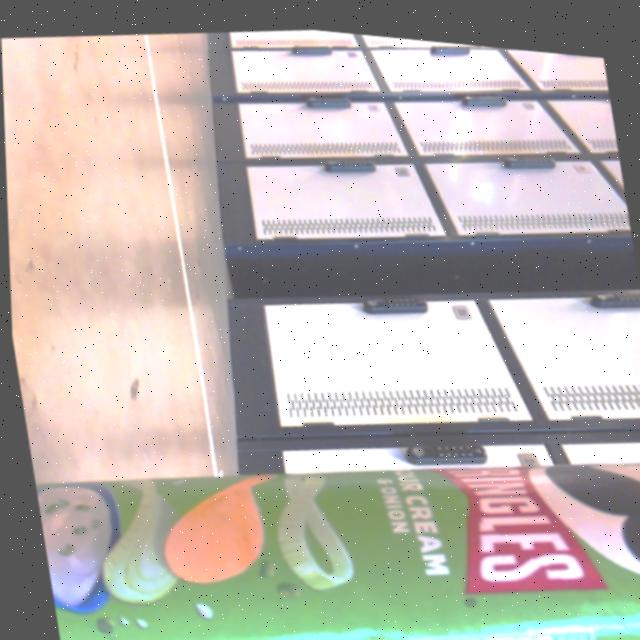greenpringles: (26, 384, 640, 640)
